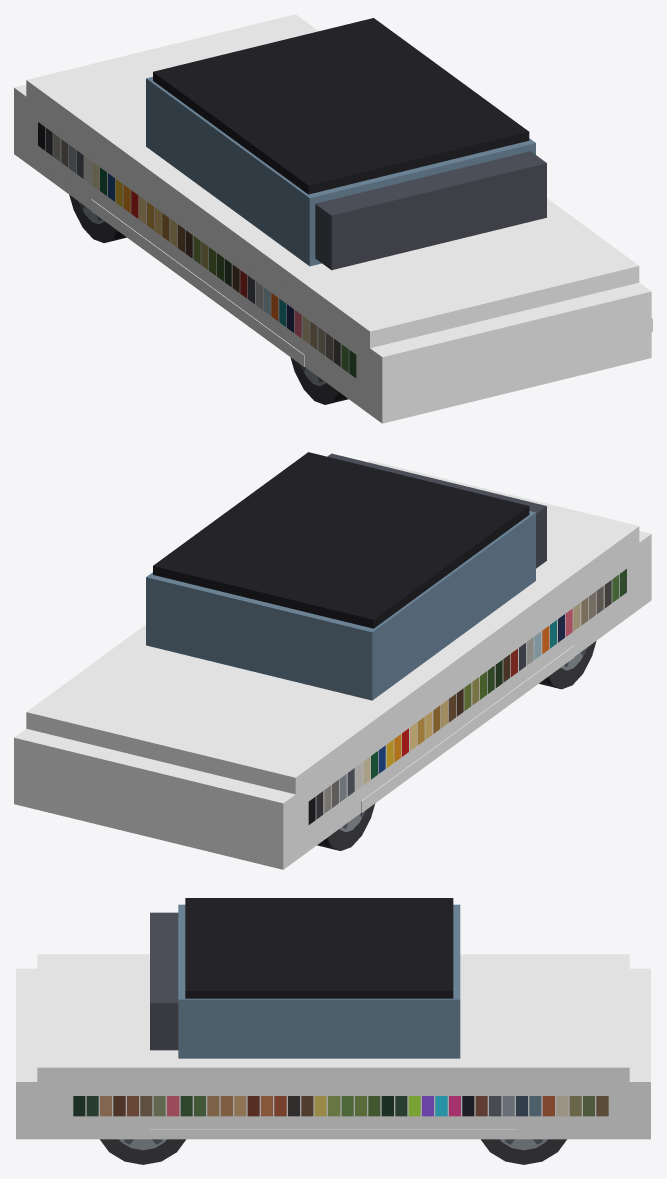
File: calib_car.glb
3 renders of one model, top to bottom at view 1: azimuth 30°, elevation 25°; view 2: azimuth 150°, elevation 25°; view 3: azimuth 270°, elevation 25°, orthographic. The views are drawn at different scales.
Parts seen in each view (by area): view 1: Body, taillight_L, taillight_R, Tire_RL, Tire_FL; view 2: Body, headlight_R, headlight_L, Tire_FL, Tire_RL; view 3: Body, Tire_FR, Tire_RR.
Boxes of the visible parts, x1=… form: Body: x1=14, y1=14, x2=651, y2=423; taillight_L: x1=400, y1=348, x2=448, y2=377; taillight_R: x1=587, y1=302, x2=635, y2=331; Tire_RL: x1=290, y1=357, x2=348, y2=404; Tire_FL: x1=69, y1=194, x2=126, y2=242; Body: x1=14, y1=452, x2=651, y2=869; headlight_R: x1=35, y1=750, x2=83, y2=779; headlight_L: x1=211, y1=793, x2=259, y2=822; Tire_FL: x1=317, y1=803, x2=375, y2=850; Tire_RL: x1=539, y1=641, x2=596, y2=689; Body: x1=16, y1=898, x2=650, y2=1139; Tire_FR: x1=481, y1=1139, x2=566, y2=1164; Tire_RR: x1=100, y1=1139, x2=185, y2=1164.
Size of the model in its own units: 1.91 by 1.3 by 4.53.
